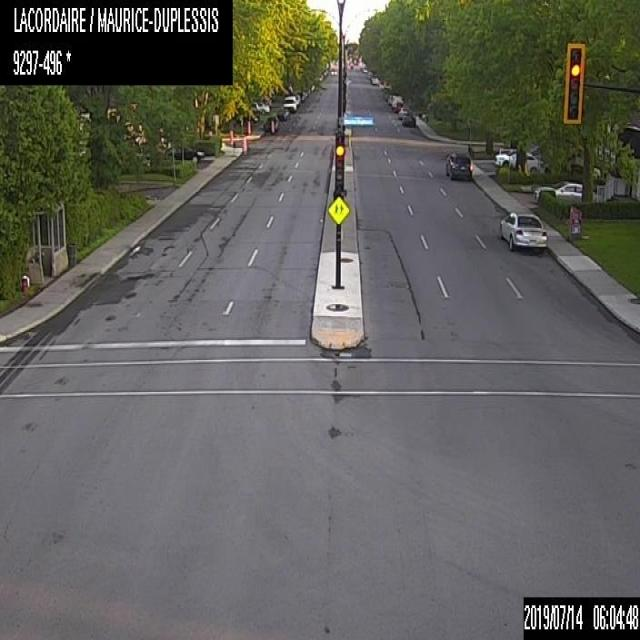construction: (227, 127, 233, 144), (241, 135, 246, 152), (246, 119, 251, 132)
vehicle: (498, 209, 547, 252), (533, 180, 595, 207), (443, 150, 472, 180), (509, 150, 544, 172), (164, 145, 203, 163), (494, 149, 516, 166), (264, 115, 278, 133), (249, 101, 270, 113), (282, 95, 296, 112), (276, 107, 290, 120), (392, 95, 402, 112), (402, 114, 416, 125), (250, 102, 260, 115), (398, 107, 409, 118), (292, 92, 300, 104), (387, 93, 395, 104), (296, 91, 304, 101), (371, 73, 378, 84), (330, 66, 336, 74), (362, 65, 368, 72)
